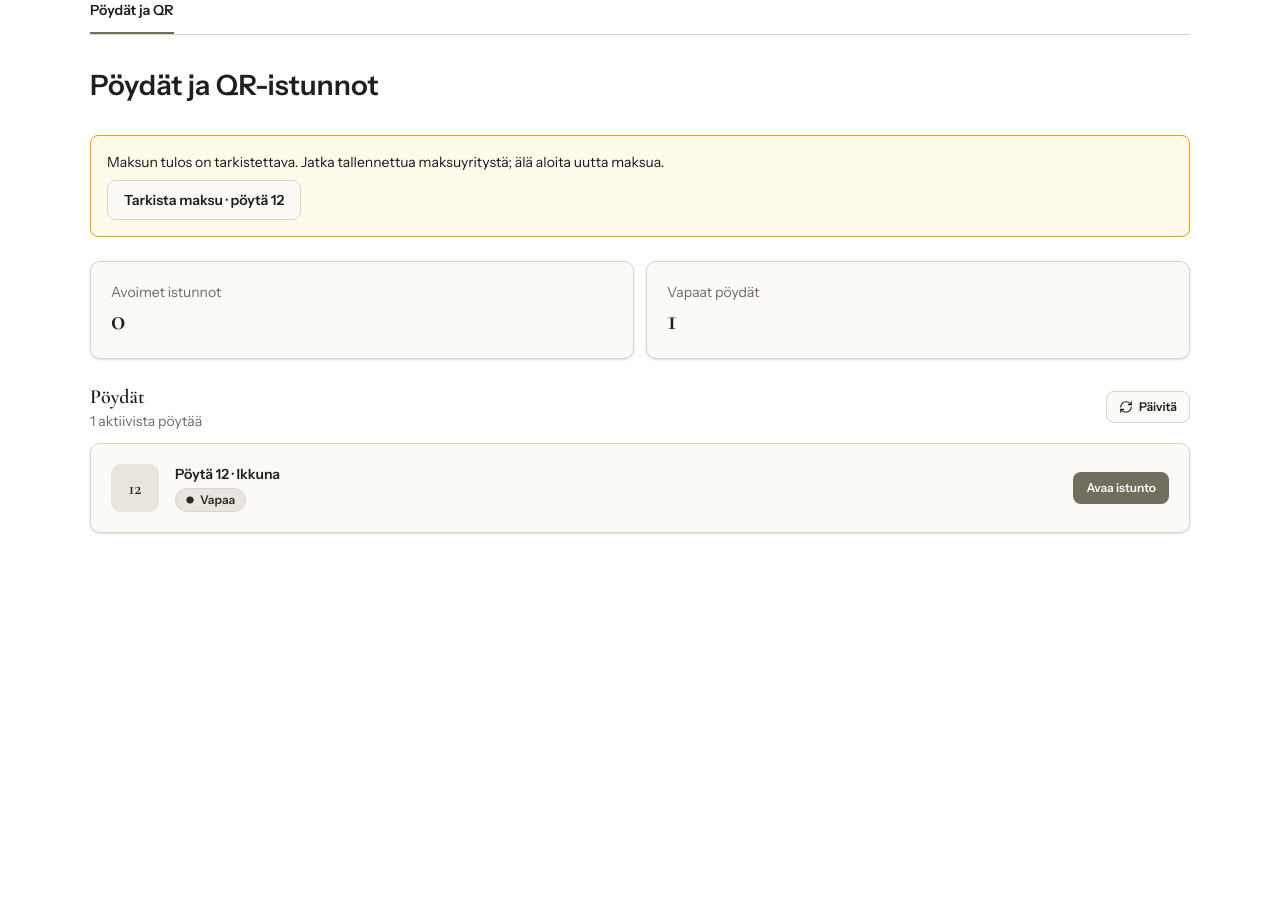
QR-01 tables screen › keeps an uncertain table payment recoverable after the session closes
The image size is (1280, 900).
Click the button "Tarkista maksu · pöytä 12". click: (204, 200)
box: [107,180,301,220]
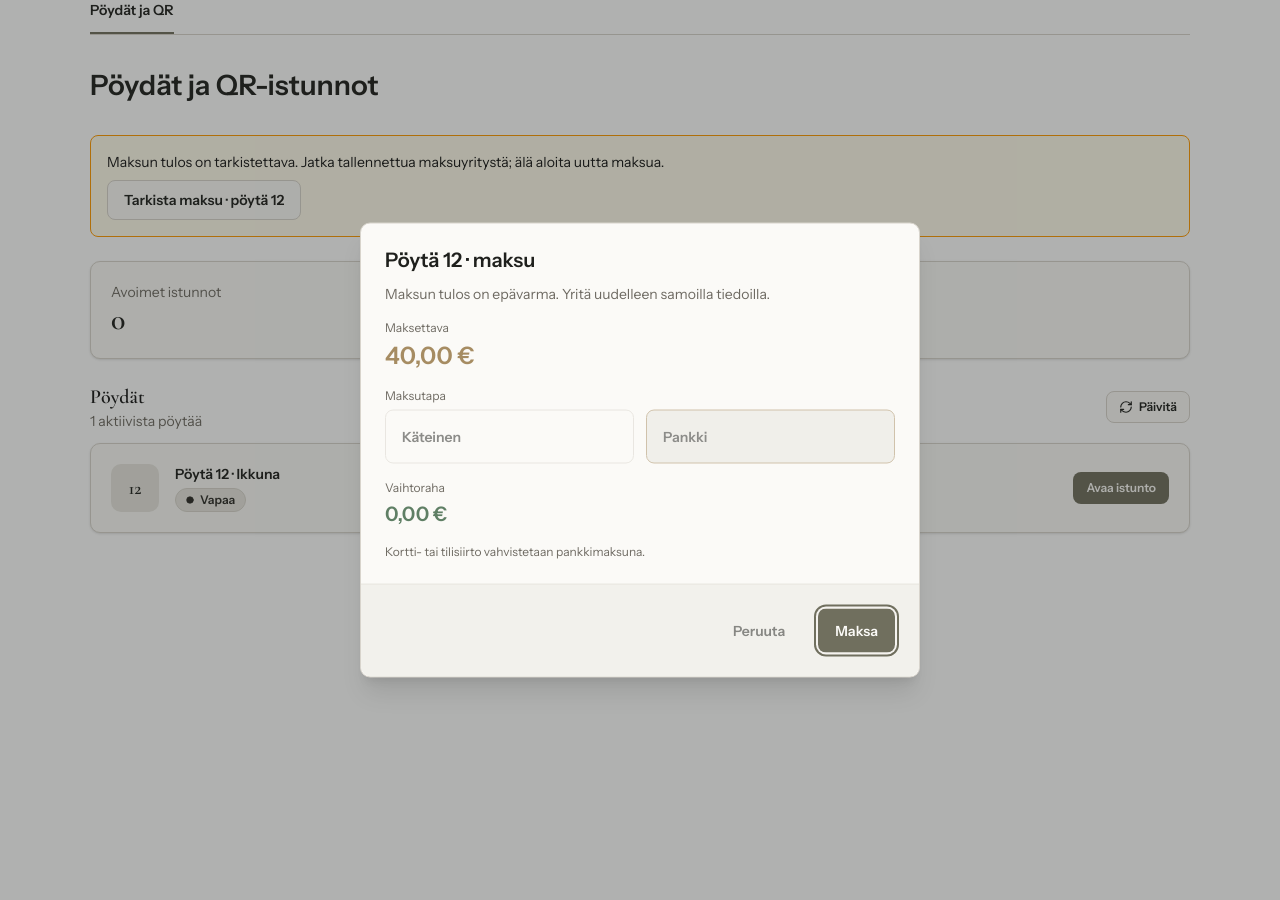
Now the dialog "Pöytä 12 · maksu" is shown, box [360,222,920,678]
